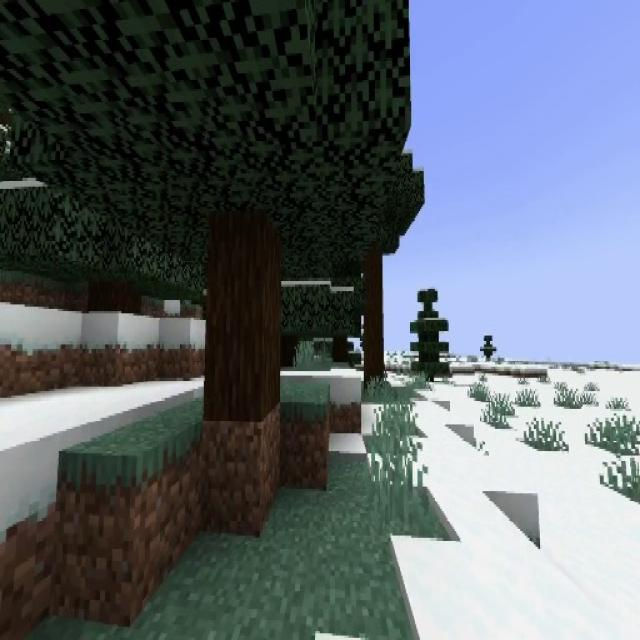spruce: (40, 1, 408, 430), (314, 123, 426, 389), (410, 290, 449, 379), (480, 334, 496, 360)
spruce_log: (204, 212, 281, 418), (364, 259, 384, 391), (89, 284, 140, 312), (280, 338, 298, 366), (334, 332, 346, 361)
